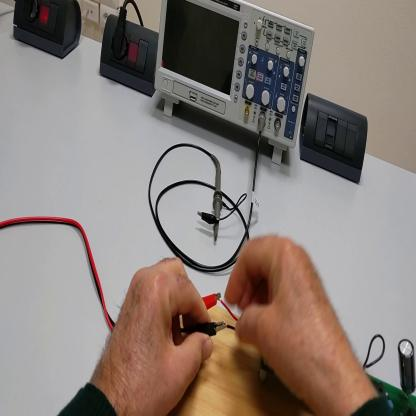hand: (227, 235, 349, 401), (92, 257, 215, 416)
oscilloscope: (152, 1, 317, 169)
oscilloscope probe tip: (213, 161, 224, 243)
socket: (99, 13, 163, 98), (13, 3, 84, 60)
working area: (169, 304, 312, 414)
